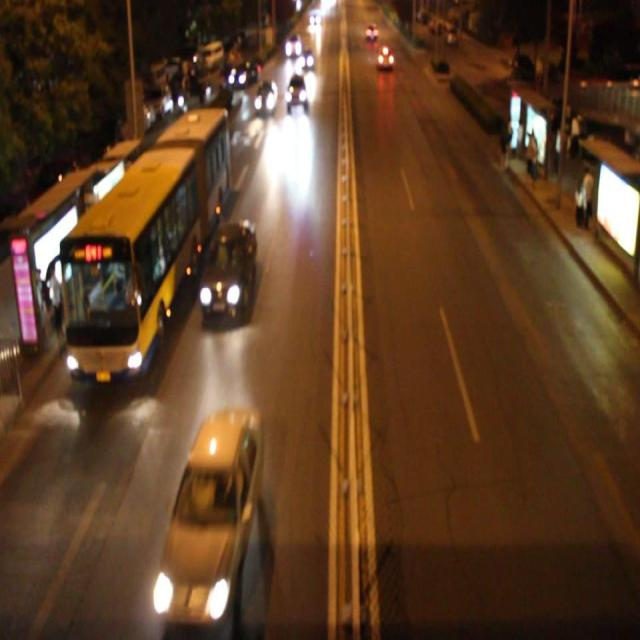car: (158, 406, 260, 619), (198, 220, 257, 323), (284, 70, 308, 109), (254, 77, 277, 116)
van: (54, 102, 219, 376)
